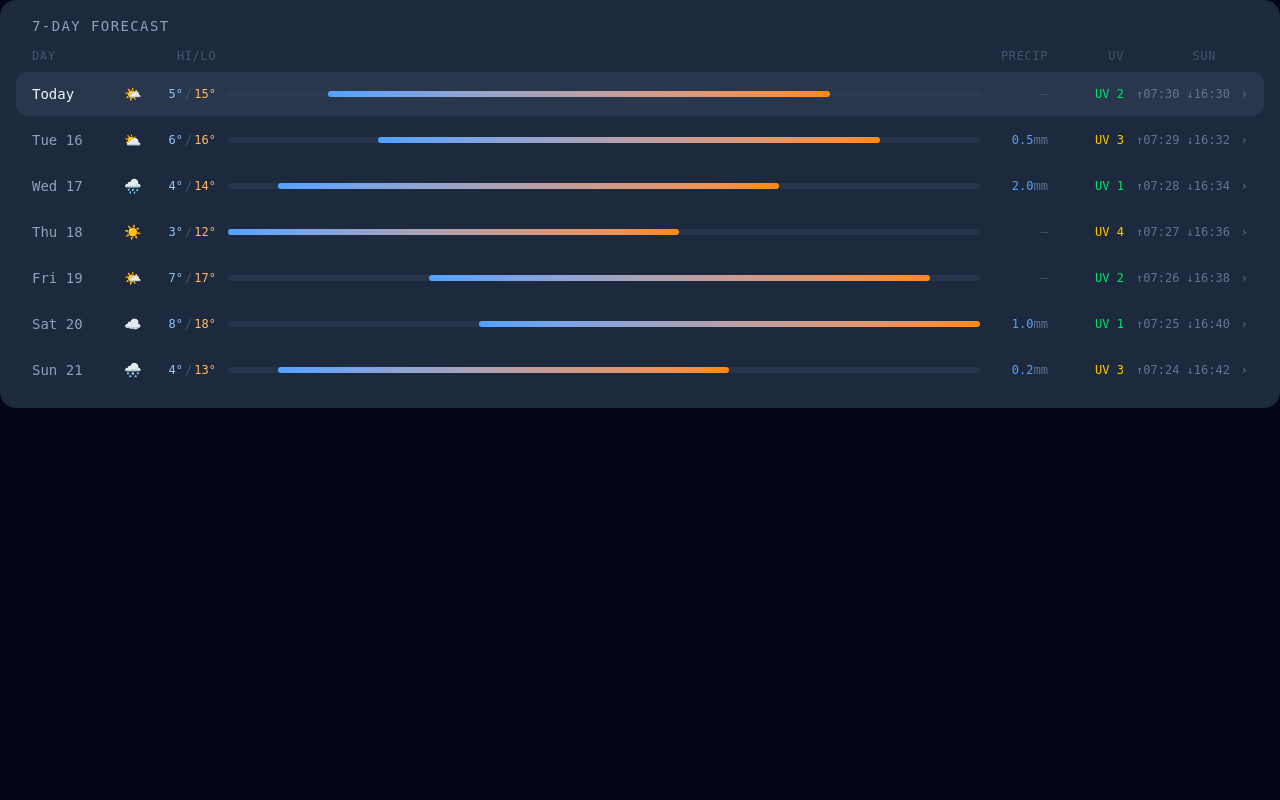
it: DailyForecast › expands hourly section when a day row is clicked
Click the text "Today".
click(53, 94)  # box [32,86,74,102]
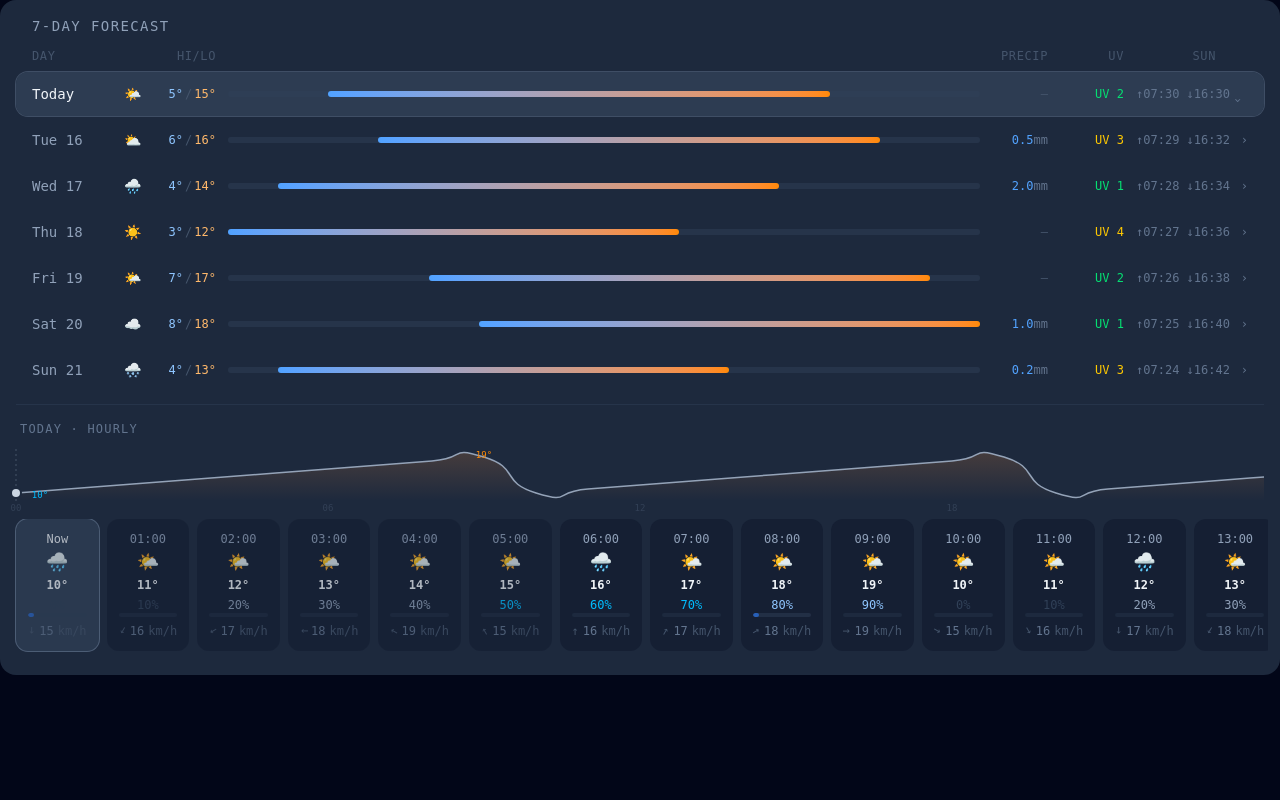
Now the text "Today · Hourly" is shown, box [20,422,138,436]
